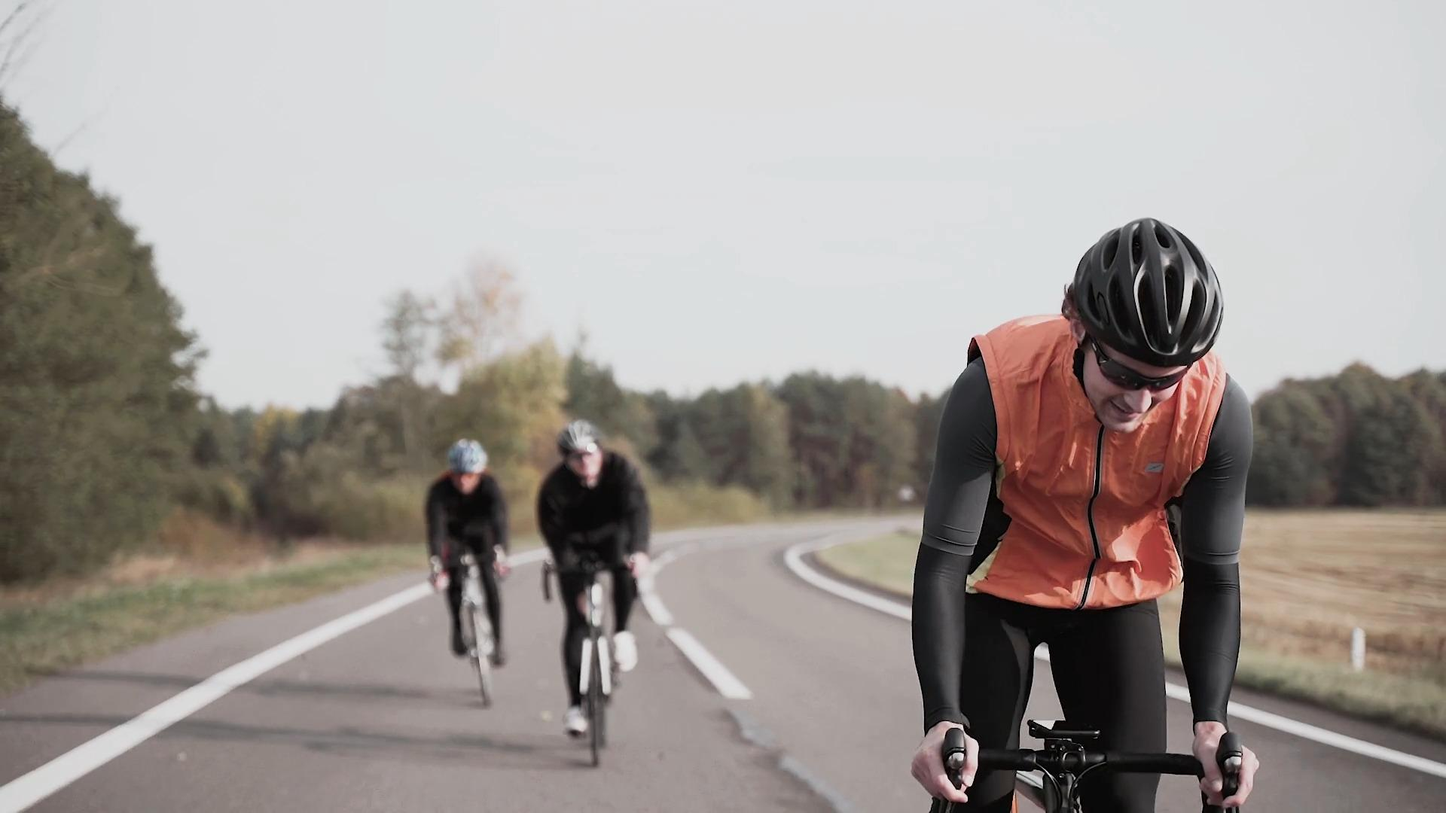bicyclist: (909, 213, 1257, 813), (538, 419, 651, 767), (425, 438, 509, 707)
helmet: (1061, 216, 1224, 433), (556, 418, 607, 480), (444, 439, 489, 495)
